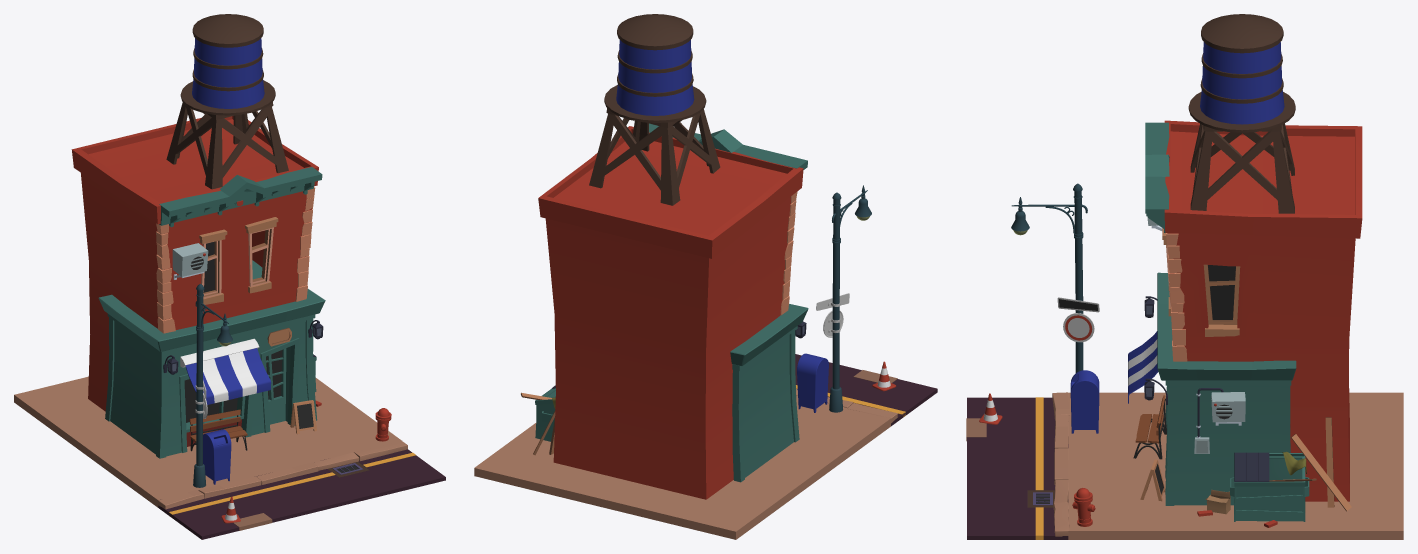
File: house.glb
The picture shows the model from 3 angles, left to right: view 1: azimuth 30°, elevation 25°; view 2: azimuth 150°, elevation 25°; view 3: azimuth 270°, elevation 25°; orthographic projection. The views are drawn at different scales.
Parts seen in each view (by area): view 1: Cube, Plane, Cube.001, Cube.008, Cylinder.001, Cube.003, Plane.008, Plane.001, Plane.012, Cube.012, Cube.014, Cone (+14 smaller); view 2: Cube, Plane, Cube.008, Cube.001, Cylinder.001, Cone, Cube.014, Cylinder.002, Cube.003, Cube.011, Plane.001, Cylinder (+2 smaller); view 3: Cube, Plane, Cube.001, Cylinder.001, Cube.008, Cube.003, Cone, Plane.007, Plane.001, Plane.012, Cube.014, Cube.012 (+15 smaller).
Part boxes in pixels (x1,y1,x2,y2): Cube: (71, 116, 318, 411); Plane: (14, 376, 445, 539); Cube.001: (110, 320, 307, 456); Cube.008: (166, 102, 288, 189); Cylinder.001: (192, 38, 264, 108); Cube.003: (98, 260, 325, 351); Plane.008: (185, 348, 271, 404); Plane.001: (159, 167, 322, 225); Plane.012: (158, 440, 407, 509); Cube.012: (156, 187, 315, 333); Cube.014: (105, 317, 317, 458); Cone: (192, 14, 263, 47); Cube: (538, 126, 803, 499); Plane: (474, 354, 937, 539); Cube.008: (589, 108, 720, 205); Cube.001: (743, 335, 793, 477); Cylinder.001: (616, 40, 694, 115); Cone: (617, 14, 693, 50); Cube.014: (732, 331, 799, 482); Cylinder.002: (829, 192, 842, 412); Cube.003: (730, 303, 808, 366); Cube.011: (797, 353, 828, 412); Plane.001: (633, 123, 807, 168); Cylinder: (604, 85, 706, 122); Cube: (1164, 120, 1362, 501); Plane: (967, 392, 1403, 539); Cube.001: (1174, 385, 1281, 505); Cylinder.001: (1200, 42, 1284, 124); Cube.008: (1190, 123, 1294, 213); Cube.003: (1157, 272, 1296, 380); Cone: (1201, 14, 1283, 53); Plane.007: (1235, 486, 1303, 521); Plane.001: (1145, 122, 1169, 232); Plane.012: (1052, 392, 1070, 536); Cube.014: (1165, 385, 1290, 505); Cube.012: (1166, 233, 1187, 361).
Bounding box in the file's own units: 1665 × 2625 × 2221.
